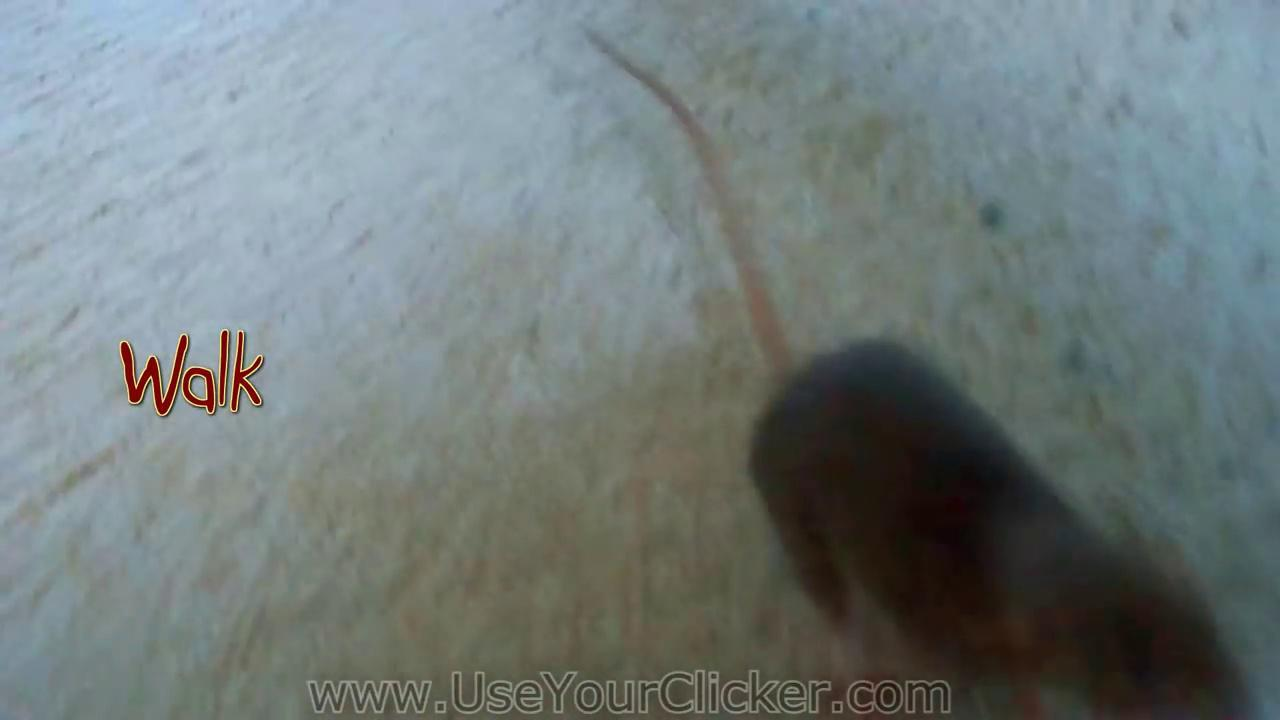rat: (577, 23, 1260, 720)
